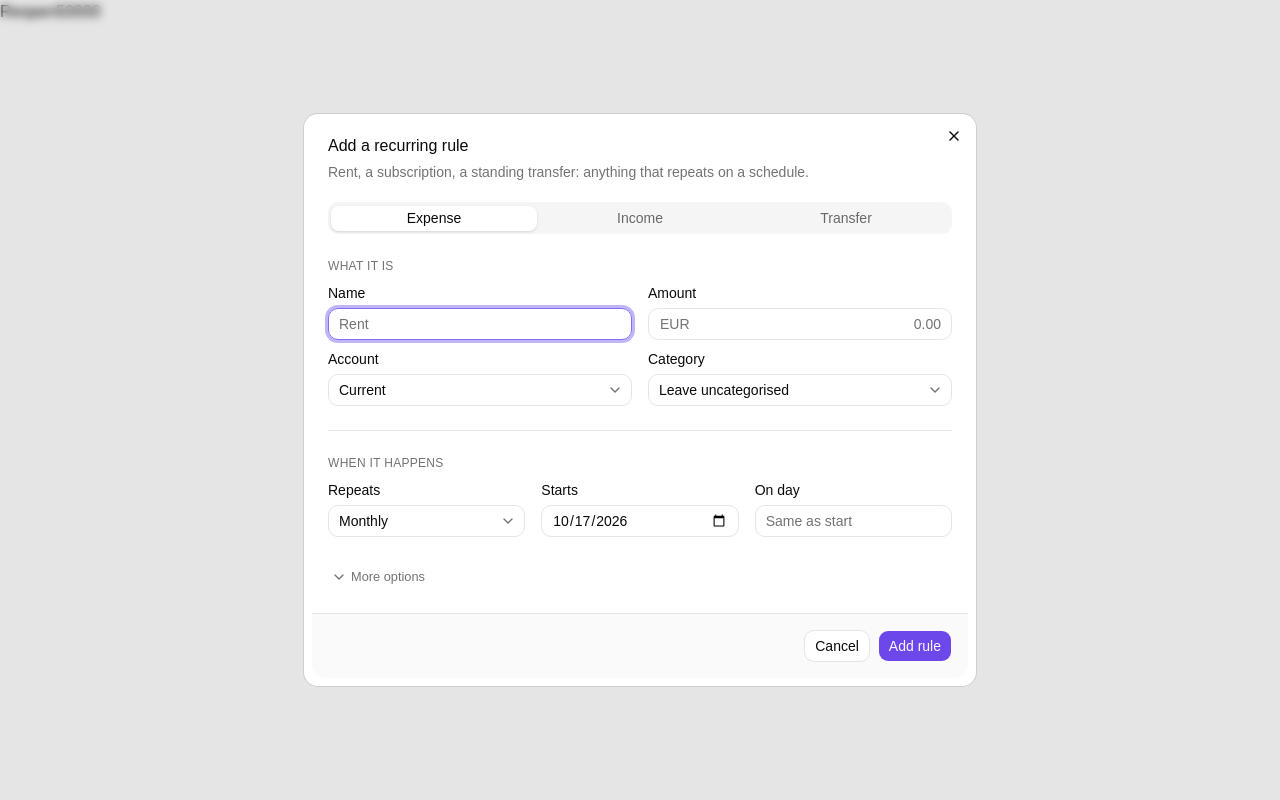
an account with a currency of its own › follows the account the picker moves to, keeping what was typed
Type "2500" into the field labelled "Amount" at (800, 324), box x1=648 y1=308 x2=952 y2=340
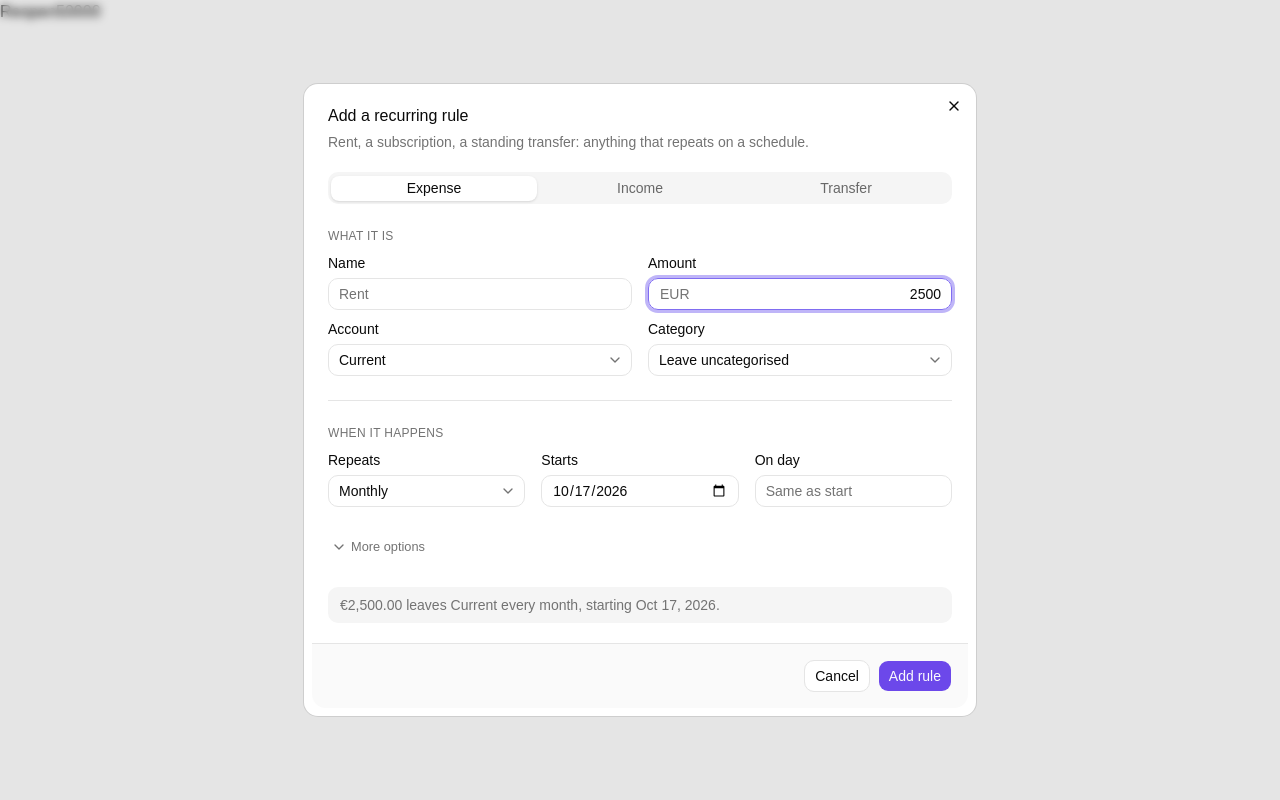
Click the dropdown named "Account" at (362, 360), box x1=328 y1=344 x2=632 y2=376
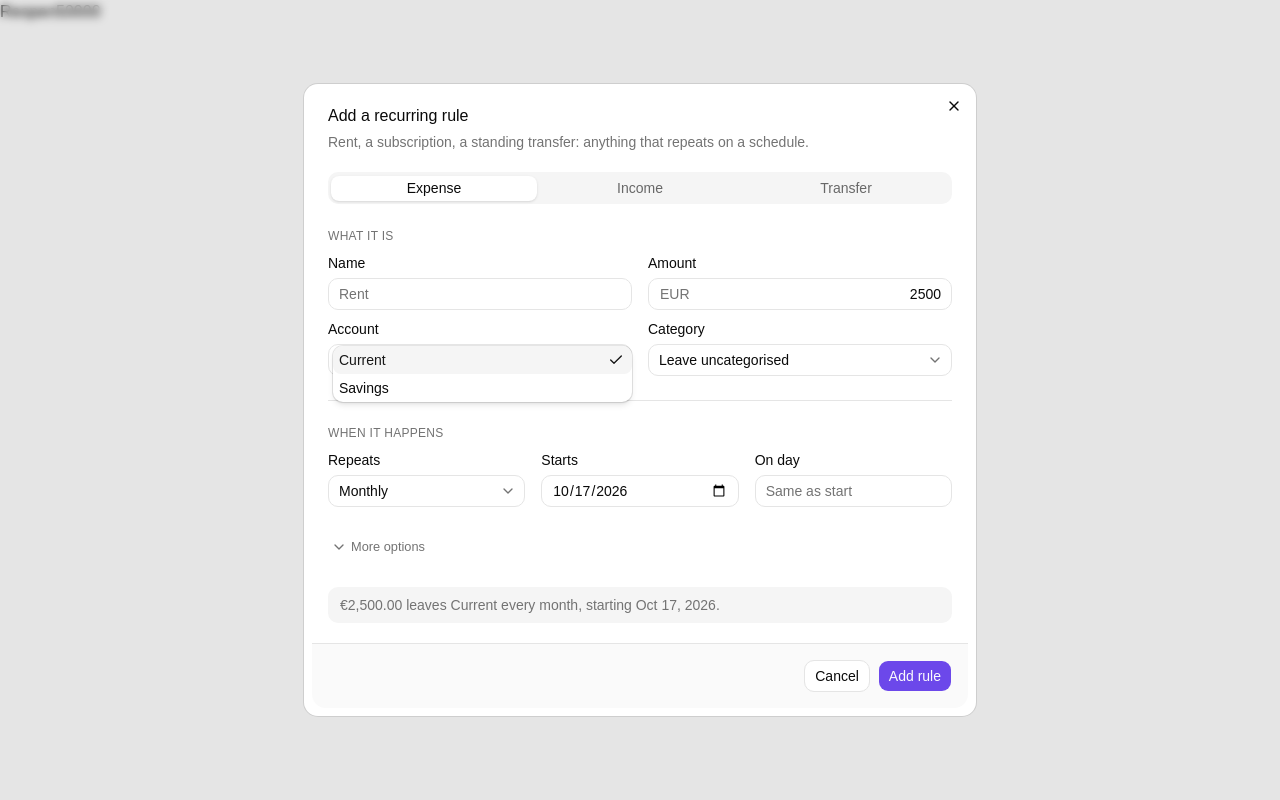
Click the option "Savings" at (364, 388), box x1=339 y1=380 x2=389 y2=396
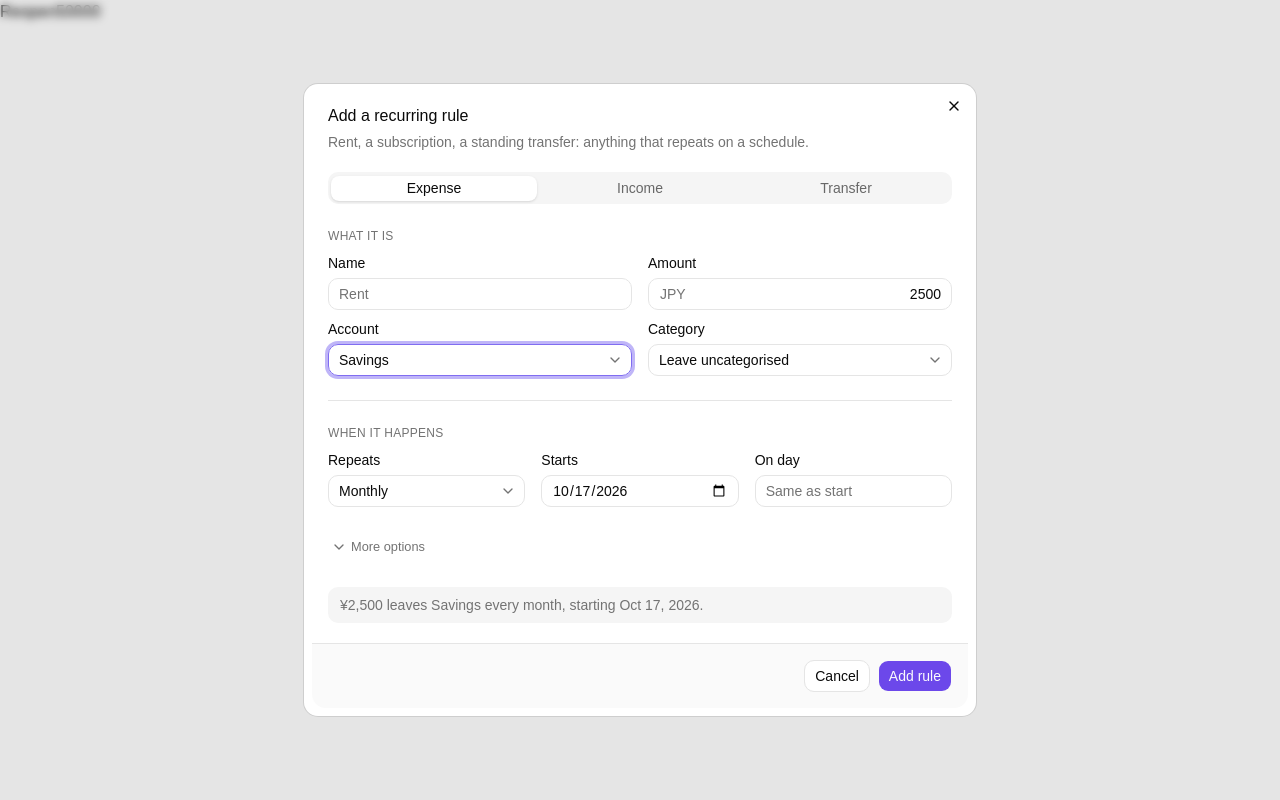
Expected: the text "JPY" is shown, x1=660 y1=284 x2=686 y2=304
